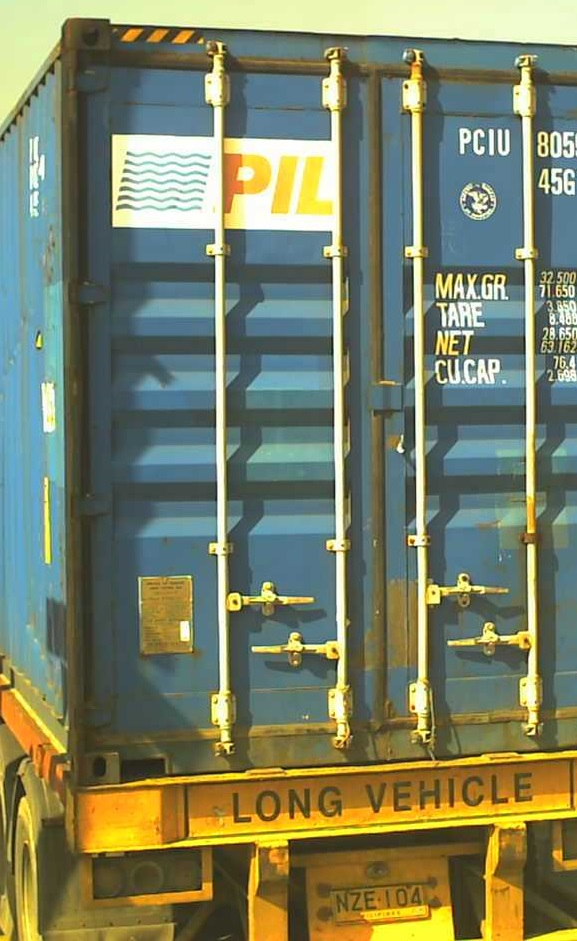container_door: (67, 22, 568, 786)
